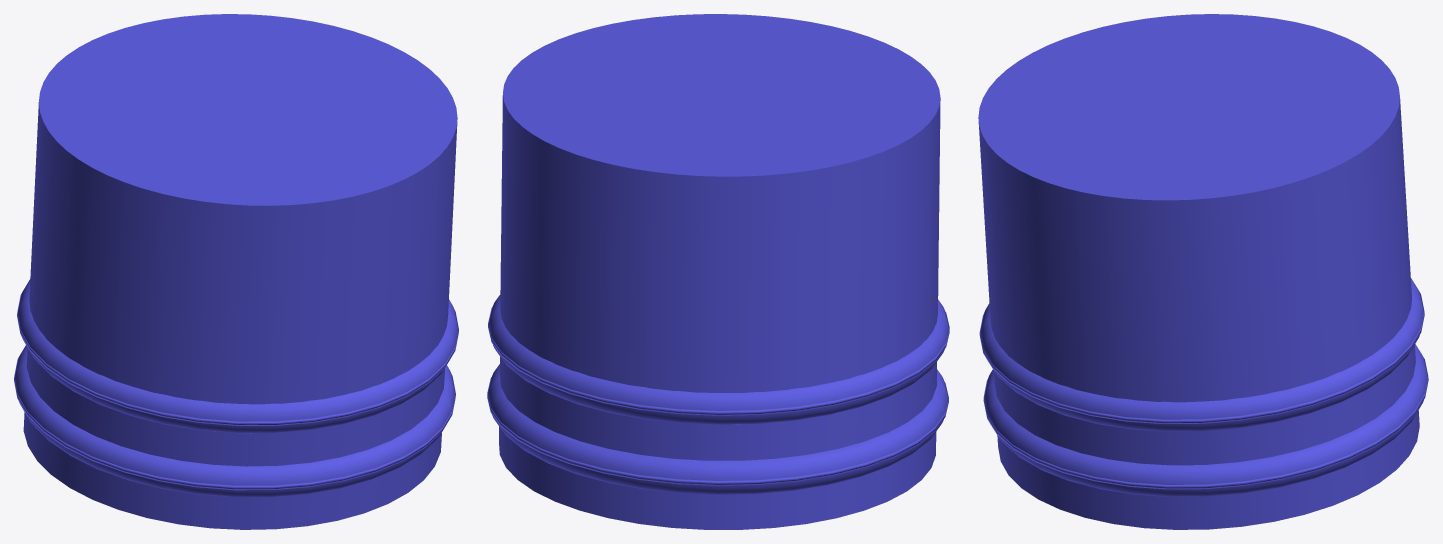
Rendered from bombilla238.obj.
3 renders of one model, left to right at view 1: azimuth 30°, elevation 25°; view 2: azimuth 150°, elevation 25°; view 3: azimuth 270°, elevation 25°, orthographic. The views are drawn at different scales.
Visible parts, largest first — view 1: Cylinder001, Cylinder004, Cylinder002, Cylinder003, Cylinder006; view 2: Cylinder001, Cylinder004, Cylinder003, Cylinder006, Cylinder002; view 3: Cylinder001, Cylinder004, Cylinder003, Cylinder002, Cylinder006.
Part boxes in pixels (x1,y1,x2,y2): Cylinder001: [29, 14, 457, 404]; Cylinder004: [14, 345, 455, 497]; Cylinder002: [17, 279, 458, 433]; Cylinder003: [26, 348, 444, 466]; Cylinder006: [23, 412, 441, 529]; Cylinder001: [500, 14, 940, 392]; Cylinder004: [487, 364, 948, 494]; Cylinder003: [499, 356, 936, 460]; Cylinder006: [499, 426, 936, 529]; Cylinder002: [488, 295, 949, 424]; Cylinder001: [978, 14, 1411, 402]; Cylinder004: [983, 344, 1428, 496]; Cylinder003: [993, 345, 1415, 465]; Cylinder002: [979, 278, 1424, 431]; Cylinder006: [997, 410, 1419, 529].
Size of the model in its own units: 72.45 by 63.34 by 72.99.
